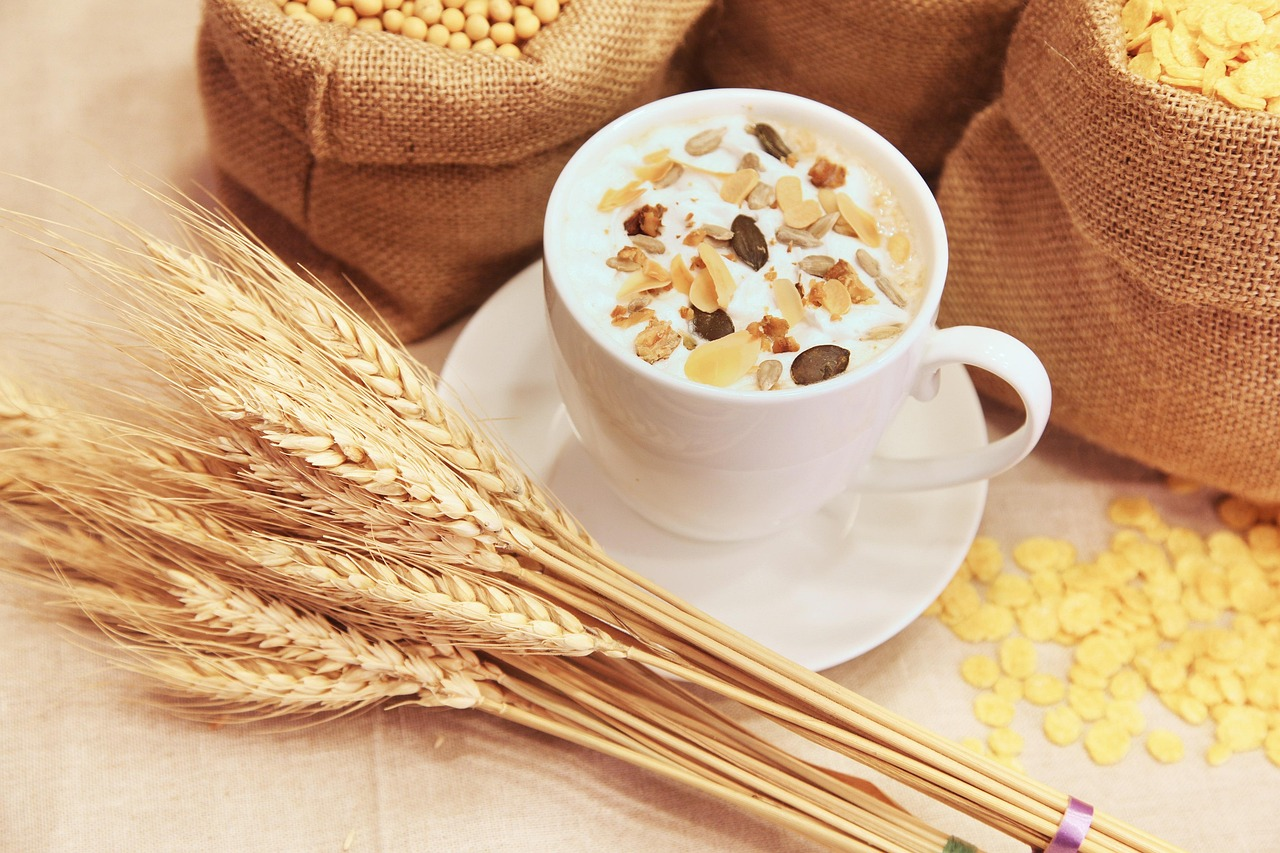mug: (505, 89, 1068, 596)
